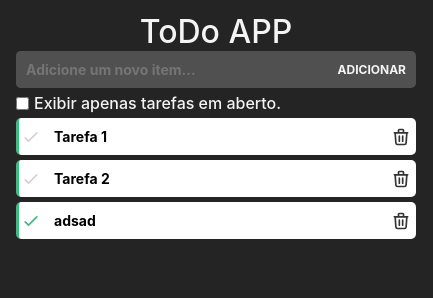
Home Page › should be able to create a new task
In the field with id "newTodo": (172, 70) [16,51,328,88], type "Test new task"
Then press Enter
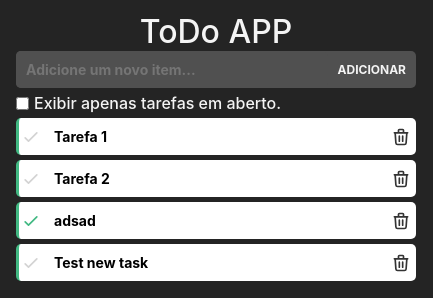
Result: the 5th field holds "Test new task" at [16,244,416,281]
